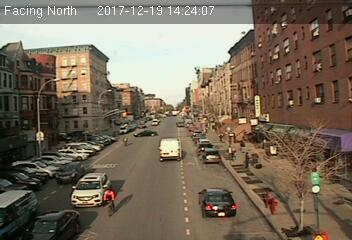bicycle: (102, 188, 118, 217)
car: (65, 169, 112, 208), (198, 188, 236, 219), (55, 162, 83, 182), (200, 149, 222, 164)
truck: (158, 137, 182, 163)
